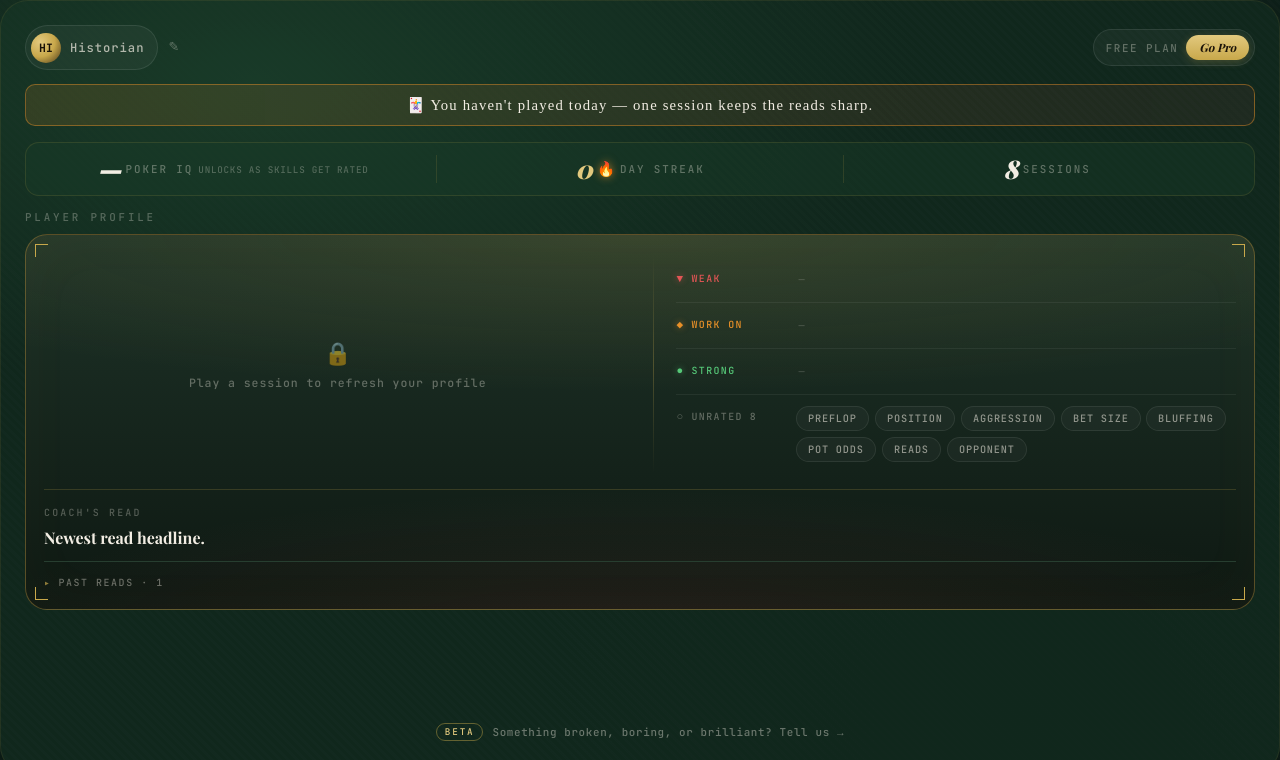
Scenario: tapping a structured notebook row expands to its evidence and watch-for
Click the button "▸ Past reads · 1" at (104, 582), box [44,574,164,591]
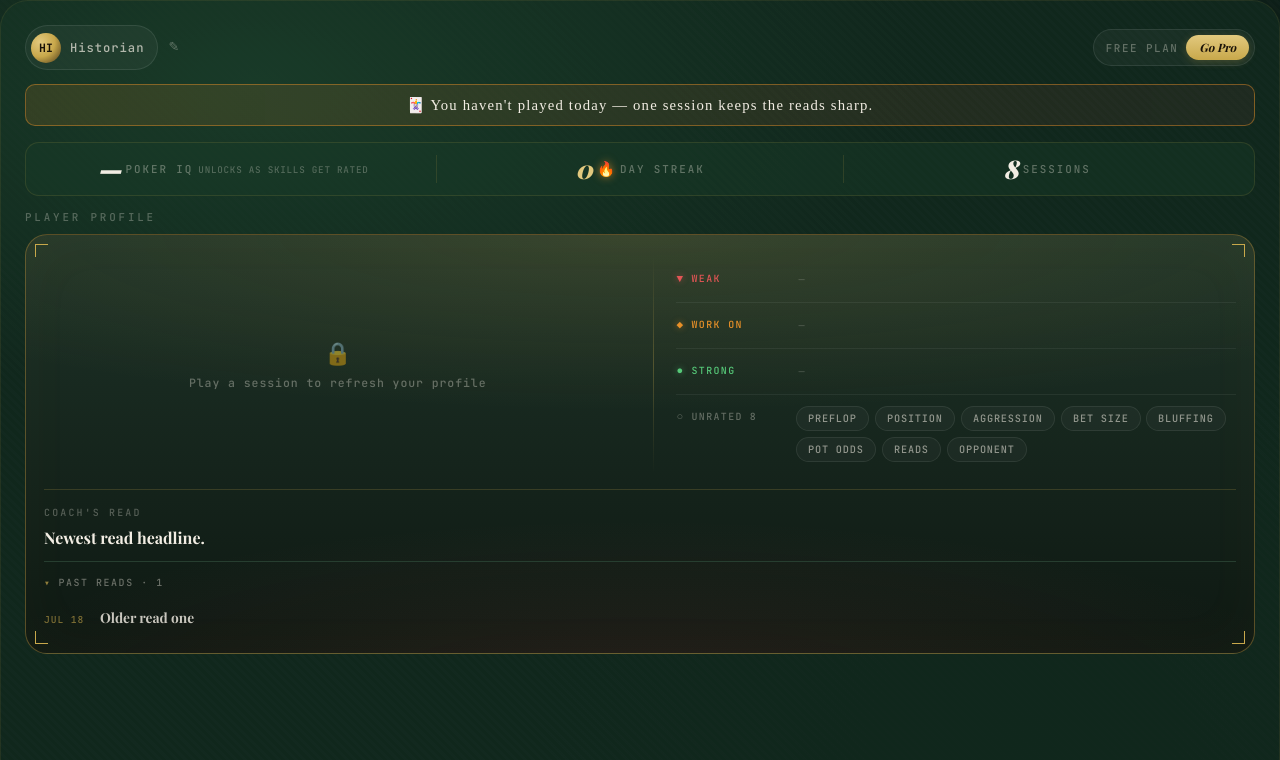
Expected: the text "Chased a dead draw" is not shown
Click the text "Older read one" at (147, 617), box [100,608,194,626]
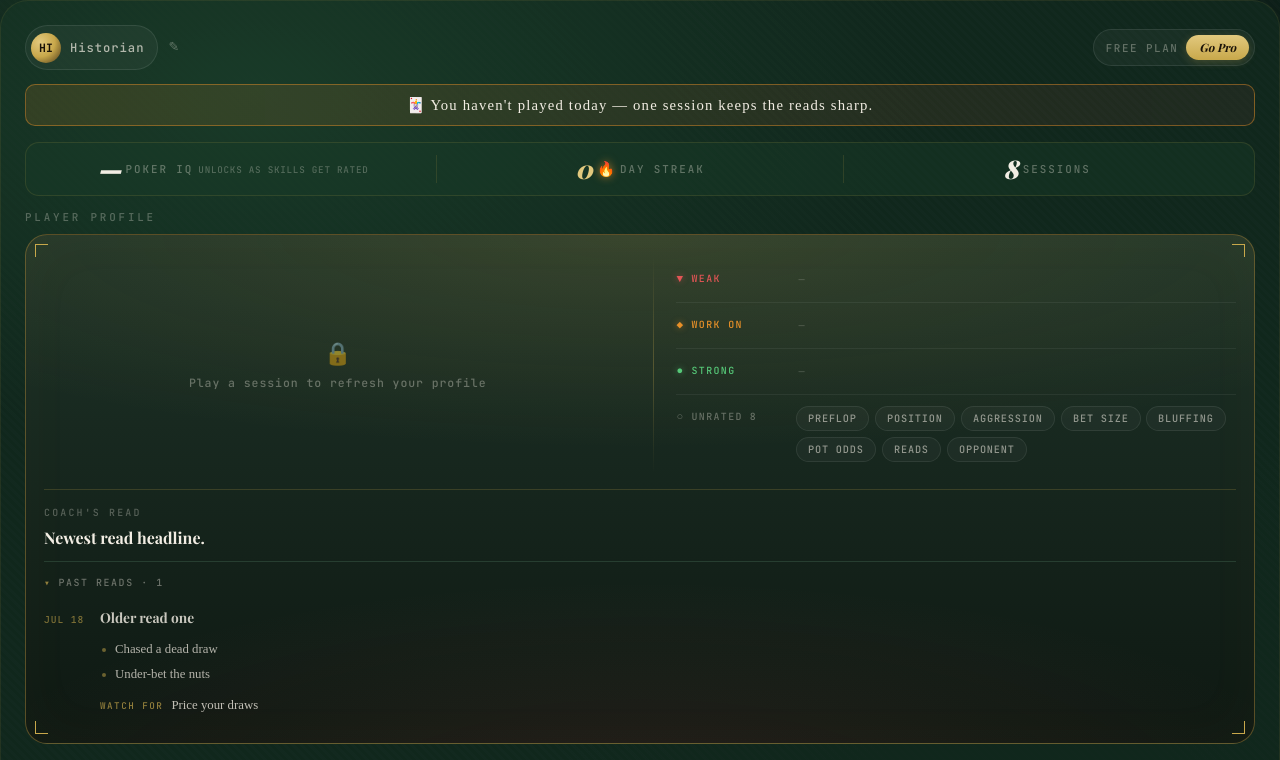
Result: the list item "Chased a dead draw" is shown at [115,642,218,656]
Result: the list item "Under-bet the nuts" is shown at [115,667,210,681]
Result: the text "Price your draws" is shown at [171,698,258,712]
